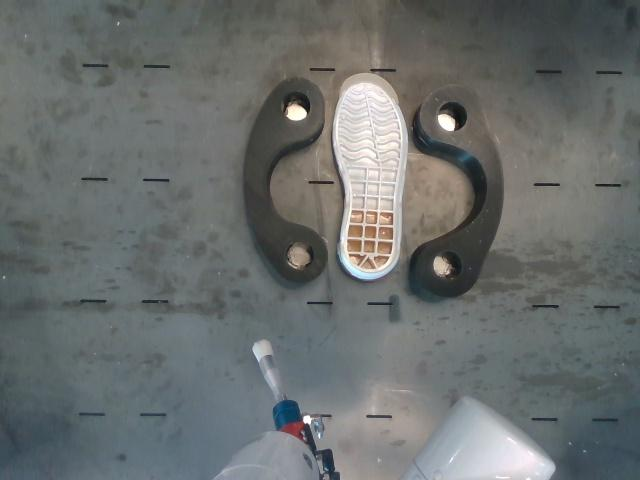shoes: (336, 73, 408, 274)
